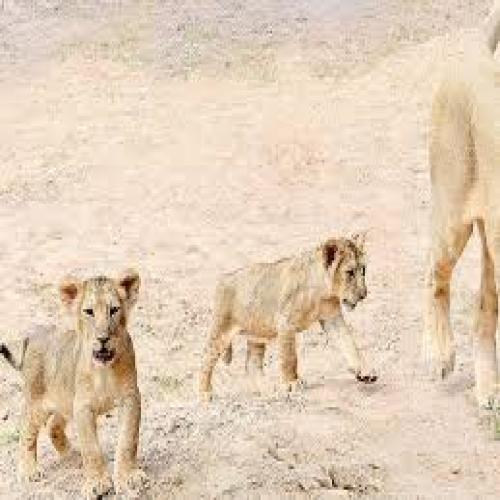lion-endangered: (0, 266, 142, 492), (420, 2, 498, 413), (195, 238, 375, 402)
